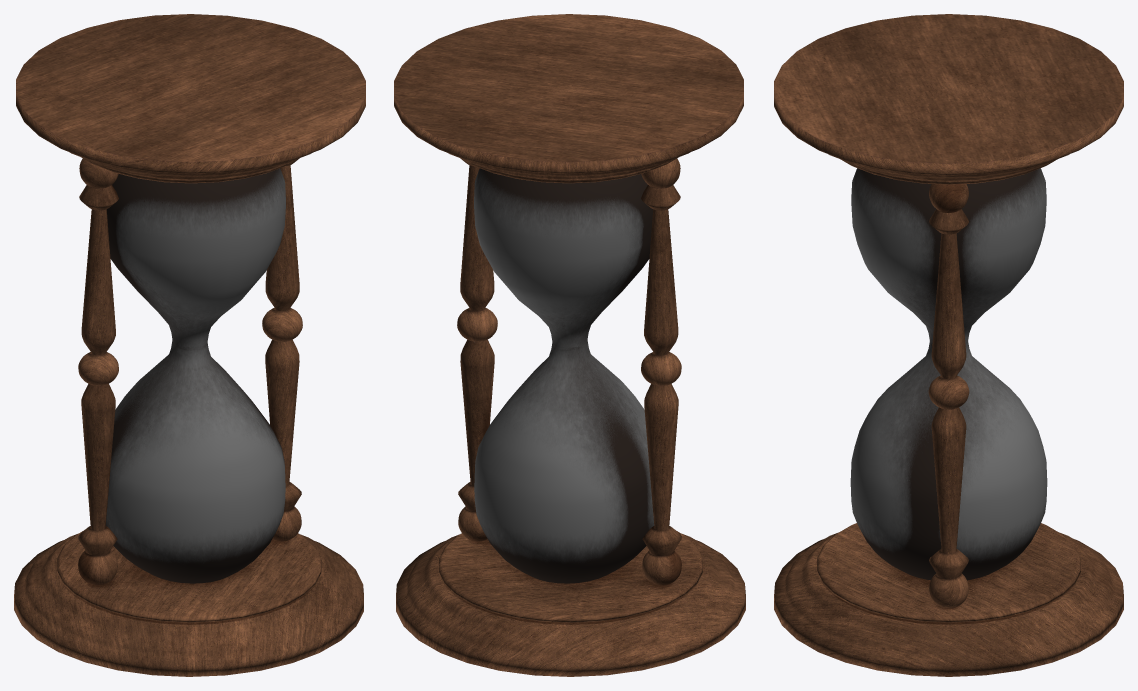
File: hourglass.glb
3 views of the same model, side by side, from view 1: azimuth 30°, elevation 25°; view 2: azimuth 150°, elevation 25°; view 3: azimuth 270°, elevation 25° (orthographic).
Parts seen in each view (by area): view 1: polySurface5, polySurface6, bottom_stand, polySurface4, polySurface3; view 2: polySurface5, polySurface6, bottom_stand, polySurface4, polySurface3; view 3: polySurface5, polySurface6, bottom_stand, polySurface3.
Part boxes in pixels (x1,y1,x2,y2): polySurface5: [105, 168, 285, 583]; polySurface6: [16, 14, 365, 183]; bottom_stand: [14, 531, 363, 676]; polySurface4: [78, 158, 118, 585]; polySurface3: [262, 159, 302, 541]; polySurface5: [474, 168, 654, 583]; polySurface6: [394, 14, 743, 183]; bottom_stand: [396, 531, 745, 676]; polySurface4: [641, 158, 681, 585]; polySurface3: [457, 159, 497, 541]; polySurface5: [850, 168, 1047, 580]; polySurface6: [774, 14, 1123, 184]; bottom_stand: [774, 523, 1123, 676]; polySurface3: [928, 184, 969, 608].
Bounding box in the file's own units: 0.3965 × 0.6372 × 0.392.
1 material, 1 textured.
